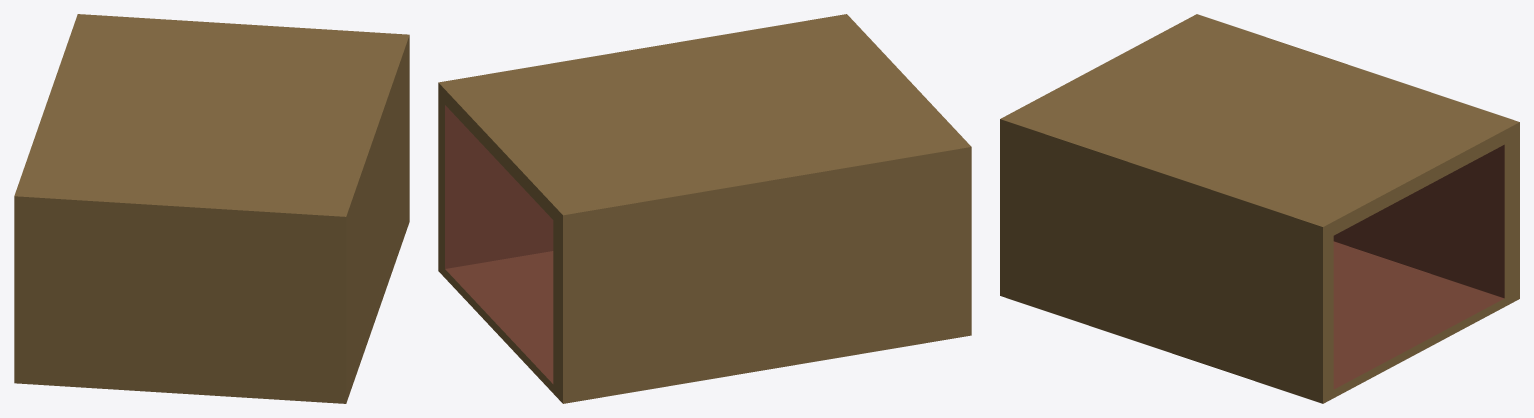
The model's file is caja_final.fbx.
3 renders of one model, left to right at view 1: azimuth 30°, elevation 25°; view 2: azimuth 150°, elevation 25°; view 3: azimuth 270°, elevation 25°, orthographic. The views are drawn at different scales.
Visible parts, largest first — view 1: final:pCube35; view 2: final:pCube35; view 3: final:pCube35.
Boxes of the visible parts, x1=… form: final:pCube35: x1=14, y1=14, x2=409, y2=403; final:pCube35: x1=438, y1=14, x2=971, y2=403; final:pCube35: x1=1000, y1=14, x2=1519, y2=403.
Size of the model in its own units: 2572 by 995 by 2651.
